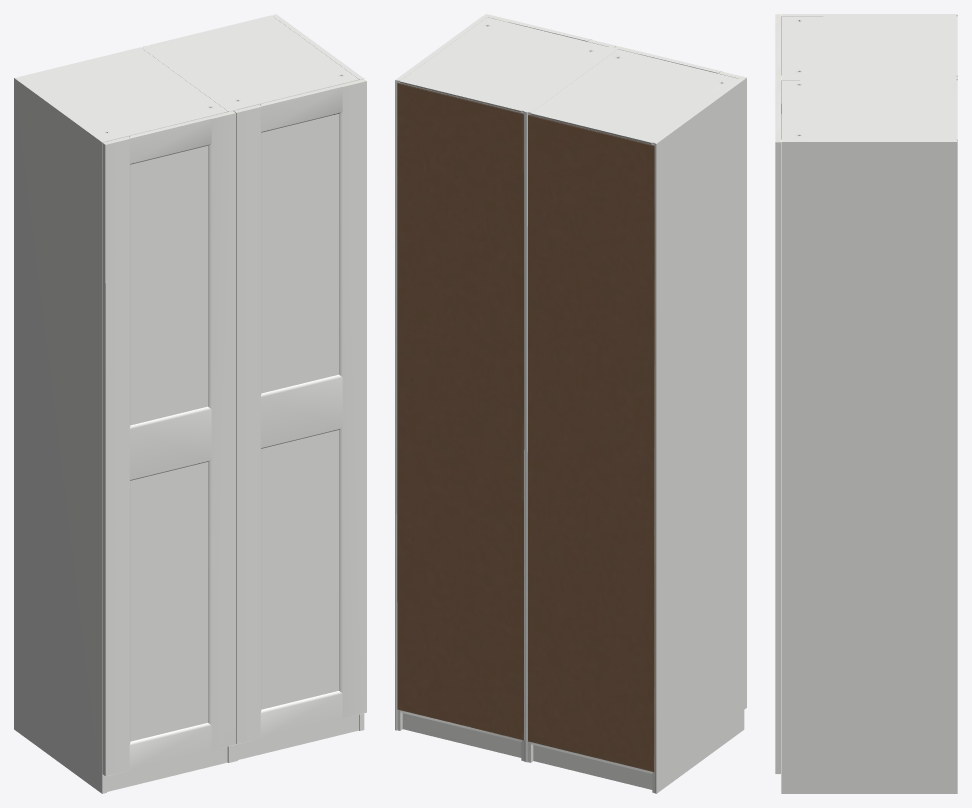
File: pax_grimo_kombinacja_szafy_79478094.glb
3 renders of one model, left to right at view 1: azimuth 30°, elevation 25°; view 2: azimuth 150°, elevation 25°; view 3: azimuth 270°, elevation 25°, orthographic.
Visible parts, largest first — view 1: pax_grimo_kombinacja_szafy_79478094; view 2: pax_grimo_kombinacja_szafy_79478094; view 3: pax_grimo_kombinacja_szafy_79478094.
Boxes of the visible parts, x1=… form: pax_grimo_kombinacja_szafy_79478094: x1=14, y1=14, x2=366, y2=793; pax_grimo_kombinacja_szafy_79478094: x1=395, y1=14, x2=746, y2=793; pax_grimo_kombinacja_szafy_79478094: x1=775, y1=14, x2=957, y2=793.
Bounding box in the file's own units: 0.9951 × 2.36 × 0.599.
Materials: 1 (1 with a texture image).
